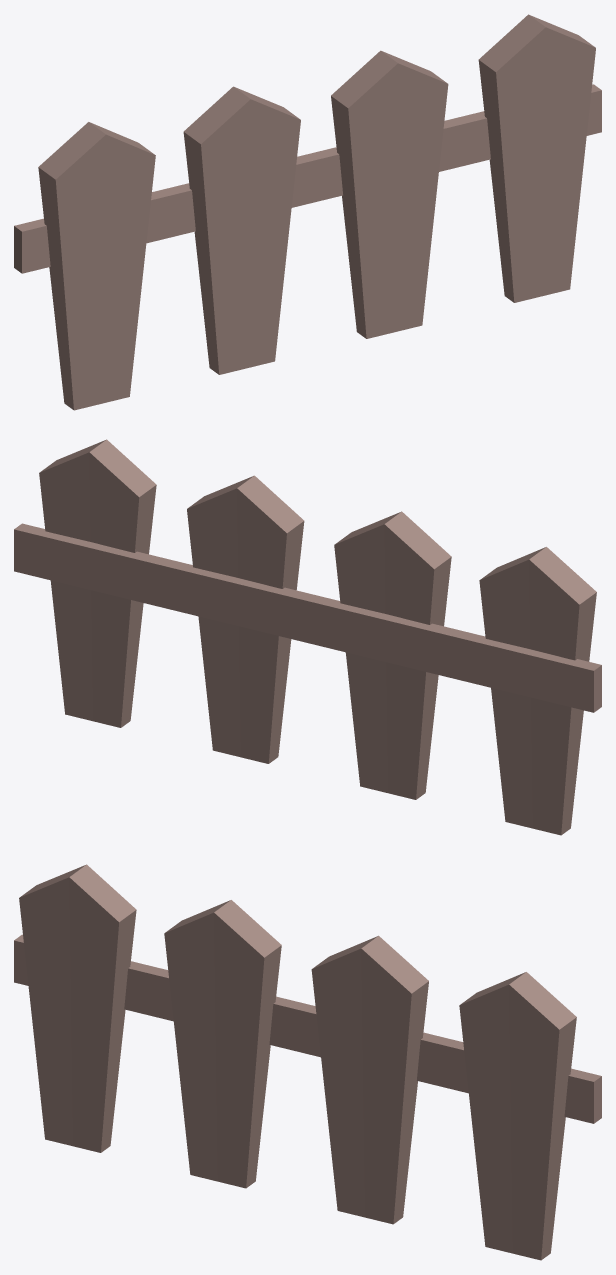
File: Fence.fbx
The picture shows the model from 3 angles, top to bottom: view 1: azimuth 30°, elevation 25°; view 2: azimuth 150°, elevation 25°; view 3: azimuth 330°, elevation 25°; orthographic projection.
Visible parts, largest first — view 1: Fence; view 2: Fence; view 3: Fence.
Boxes of the visible parts, bbox=[...] form: Fence: bbox=[14, 14, 601, 410]; Fence: bbox=[14, 439, 601, 835]; Fence: bbox=[14, 864, 601, 1260].
Size of the model in its own units: 2.89 by 1.3 by 0.1936.
